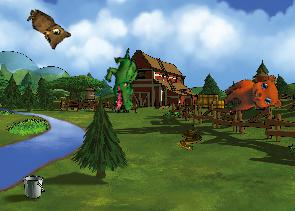bear: (218, 67, 287, 128)
crocodile: (97, 47, 149, 115)
owl: (19, 7, 73, 53)
